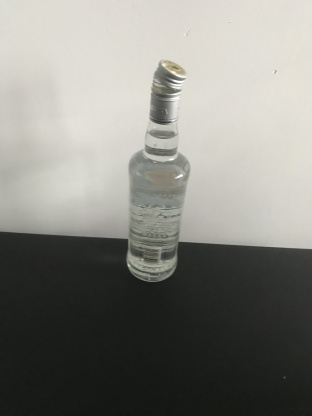nakretka: (148, 58, 187, 124)
